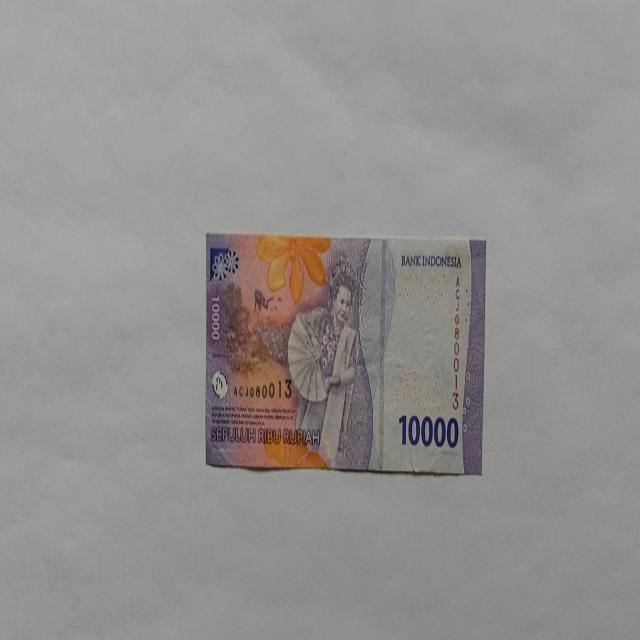sepuluh ribu rupiah: (204, 231, 486, 476)
